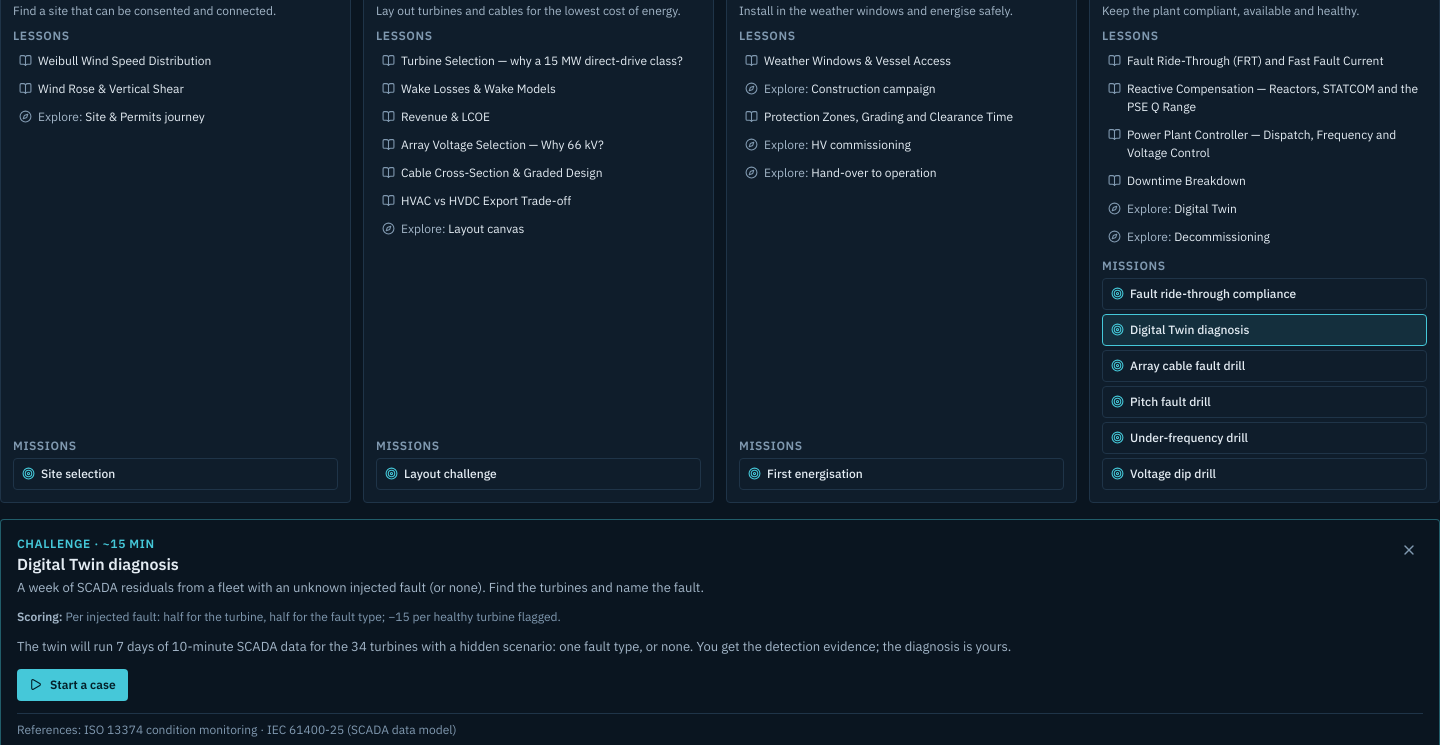
Test case: AcademyPage › grades a diagnosis against the injected fault
(page scrolled)
Click the button "Start a case" at (72, 684), box [17,668,128,700]
(page scrolled)
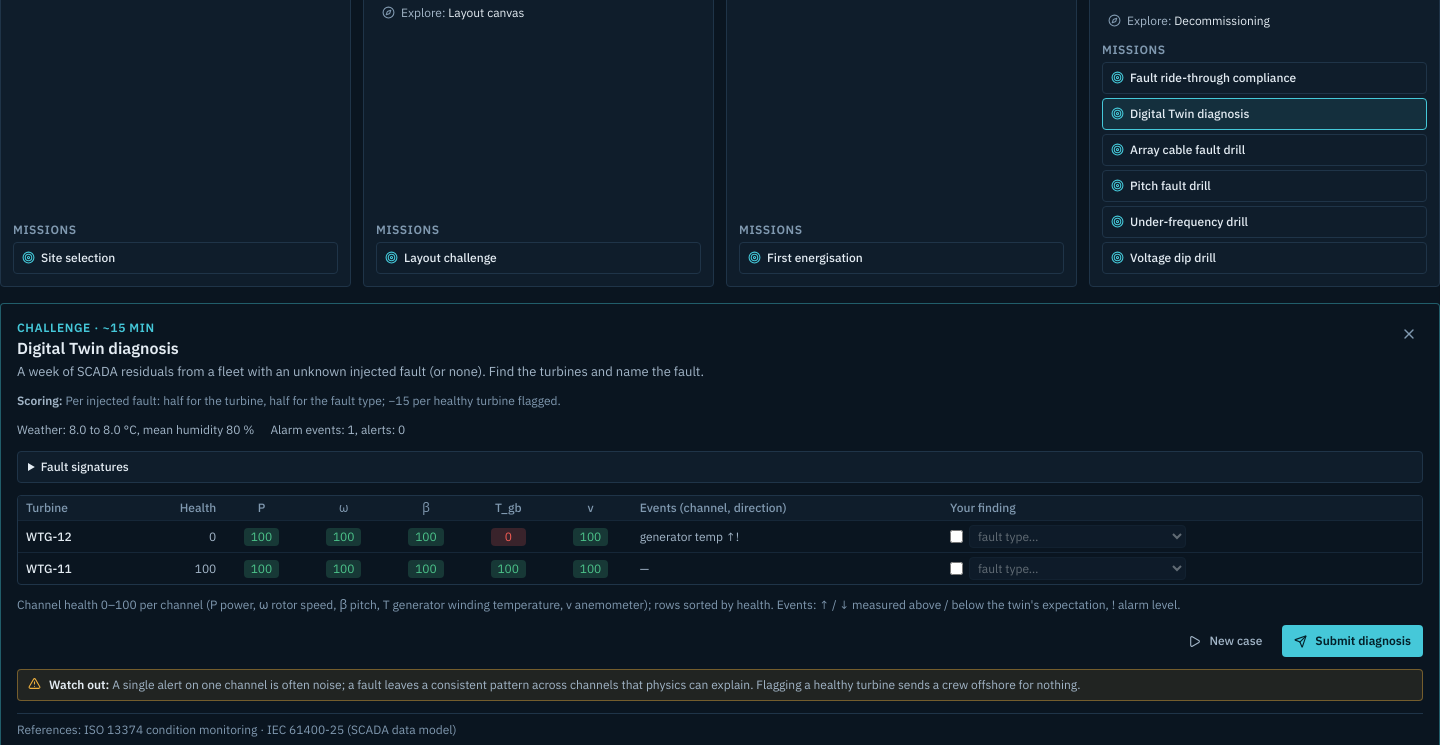
Check: the checkbox named "Flag WTG-12" is shown
Click the checkbox named "Flag WTG-12" at (956, 536), box [950,530,963,543]
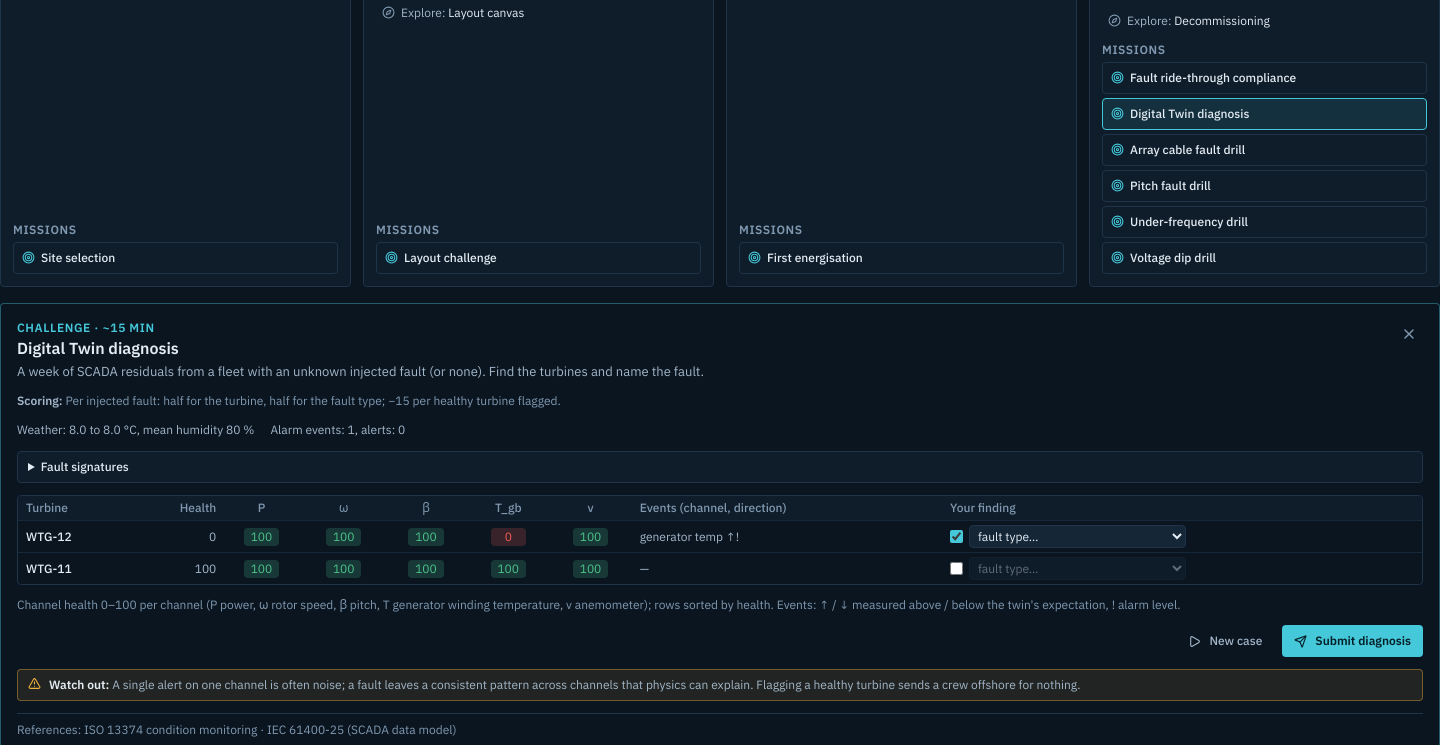
Select "Generator loss increase" in the dropdown named "Fault on WTG-12" at (1078, 536), box [969,525,1186,548]
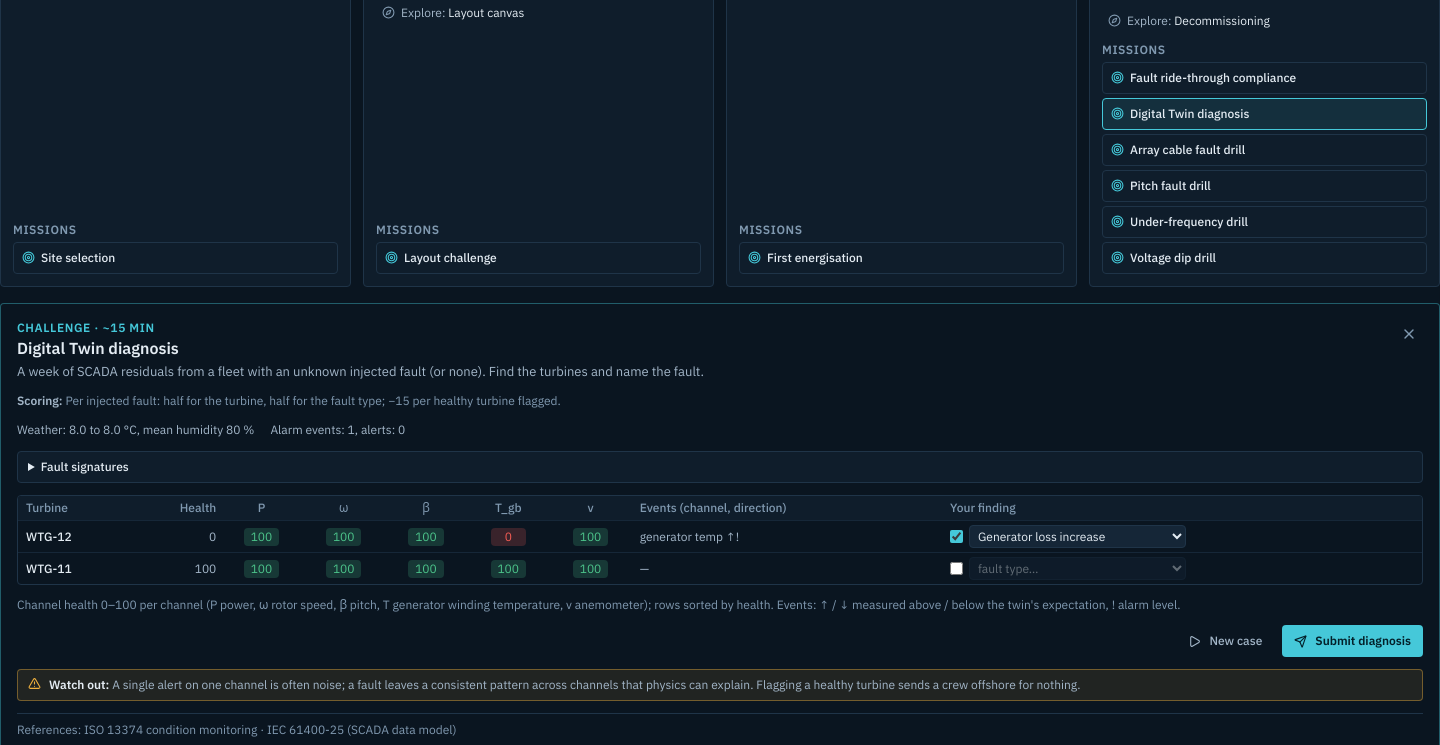
Click the button "Submit diagnosis" at (1353, 641), box [1282,625,1423,657]
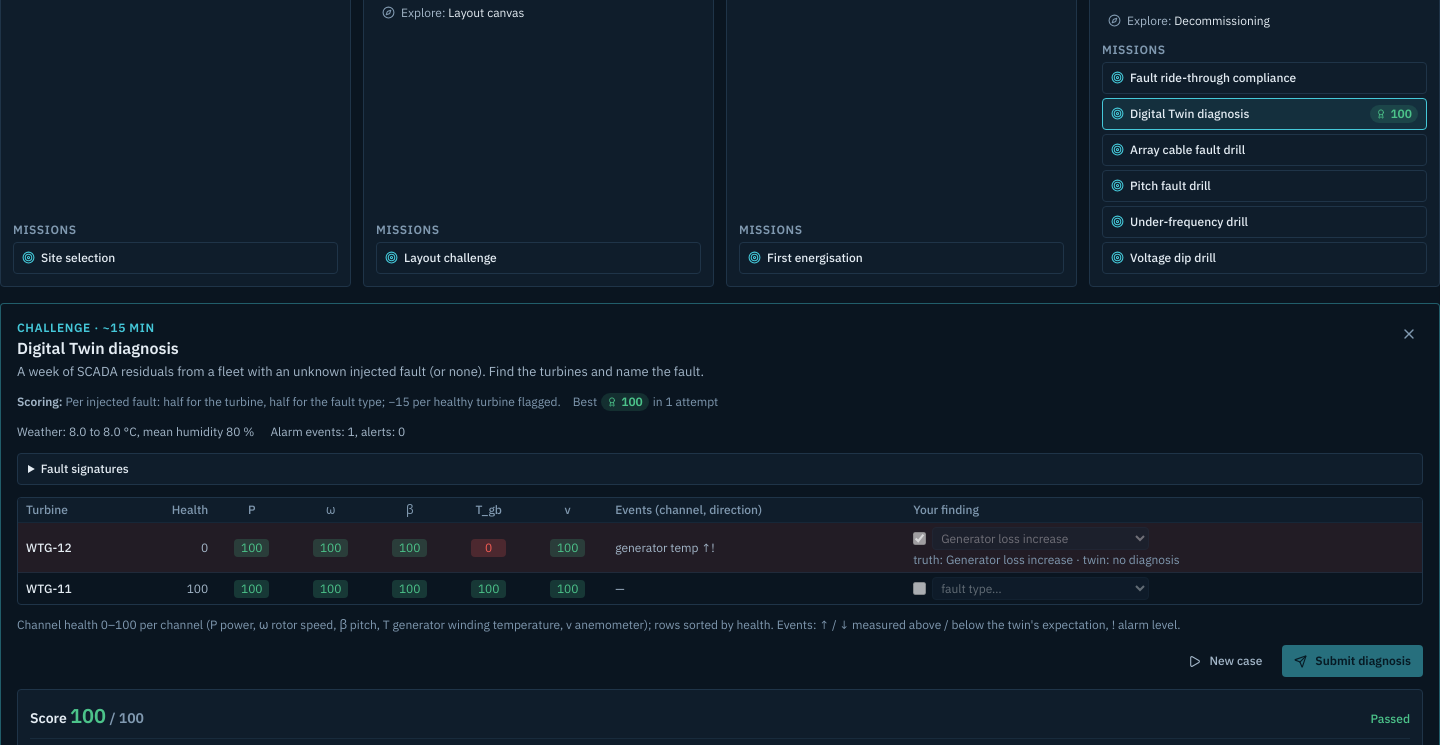
Check: the text "100" next to "/ 100" is shown, box [70,702,106,729]
